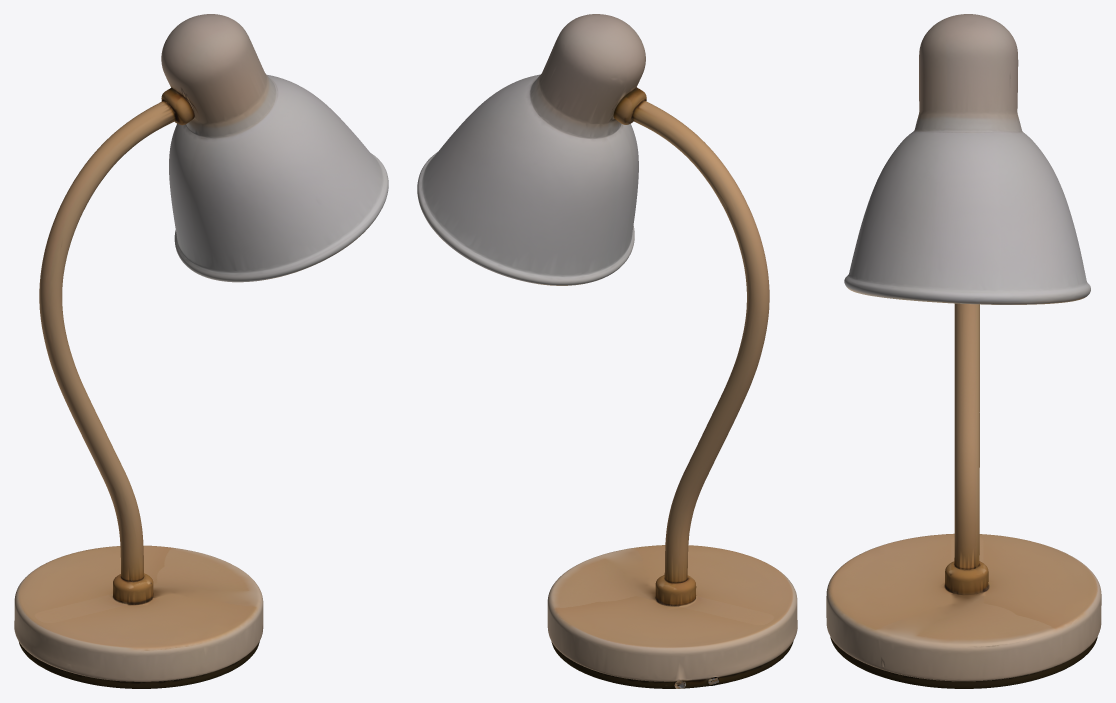
The model's file is lamp.glb.
3 renders of one model, left to right at view 1: azimuth 30°, elevation 25°; view 2: azimuth 150°, elevation 25°; view 3: azimuth 270°, elevation 25°, orthographic. The views are drawn at different scales.
Visible parts, largest first — view 1: material; view 2: material; view 3: material.
Boxes of the visible parts, x1,y1,x2,y2 form: material: (14,14,388,688); material: (417,14,797,688); material: (826,14,1101,688).
Size of the model in its own units: 0.5465 by 0.9069 by 0.3465.
1 material, 1 textured.
